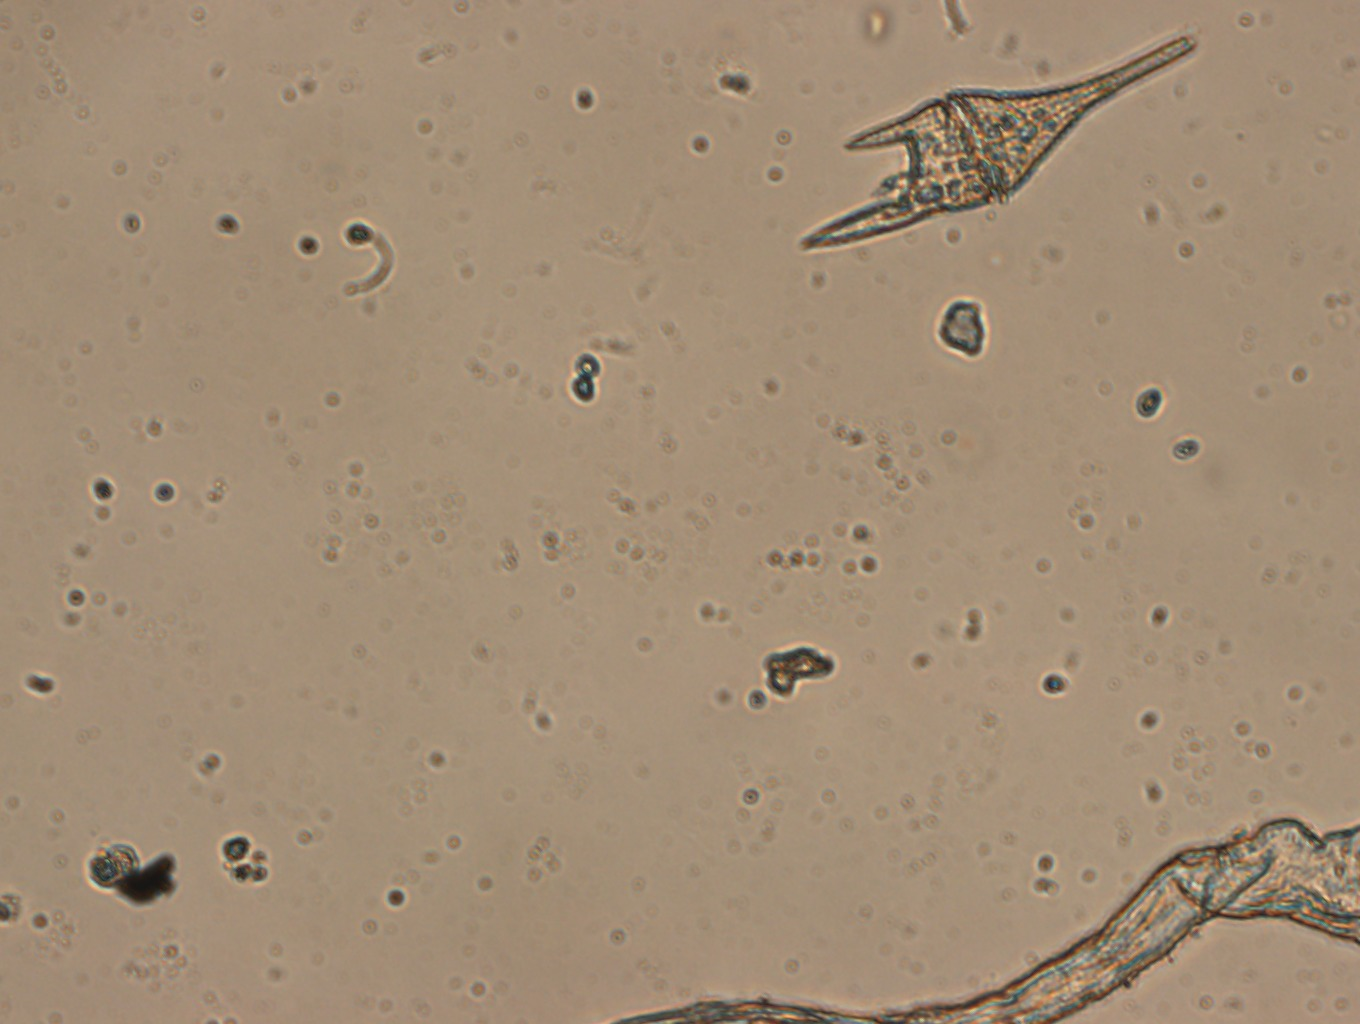ceratium furca: (787, 28, 1203, 255)
